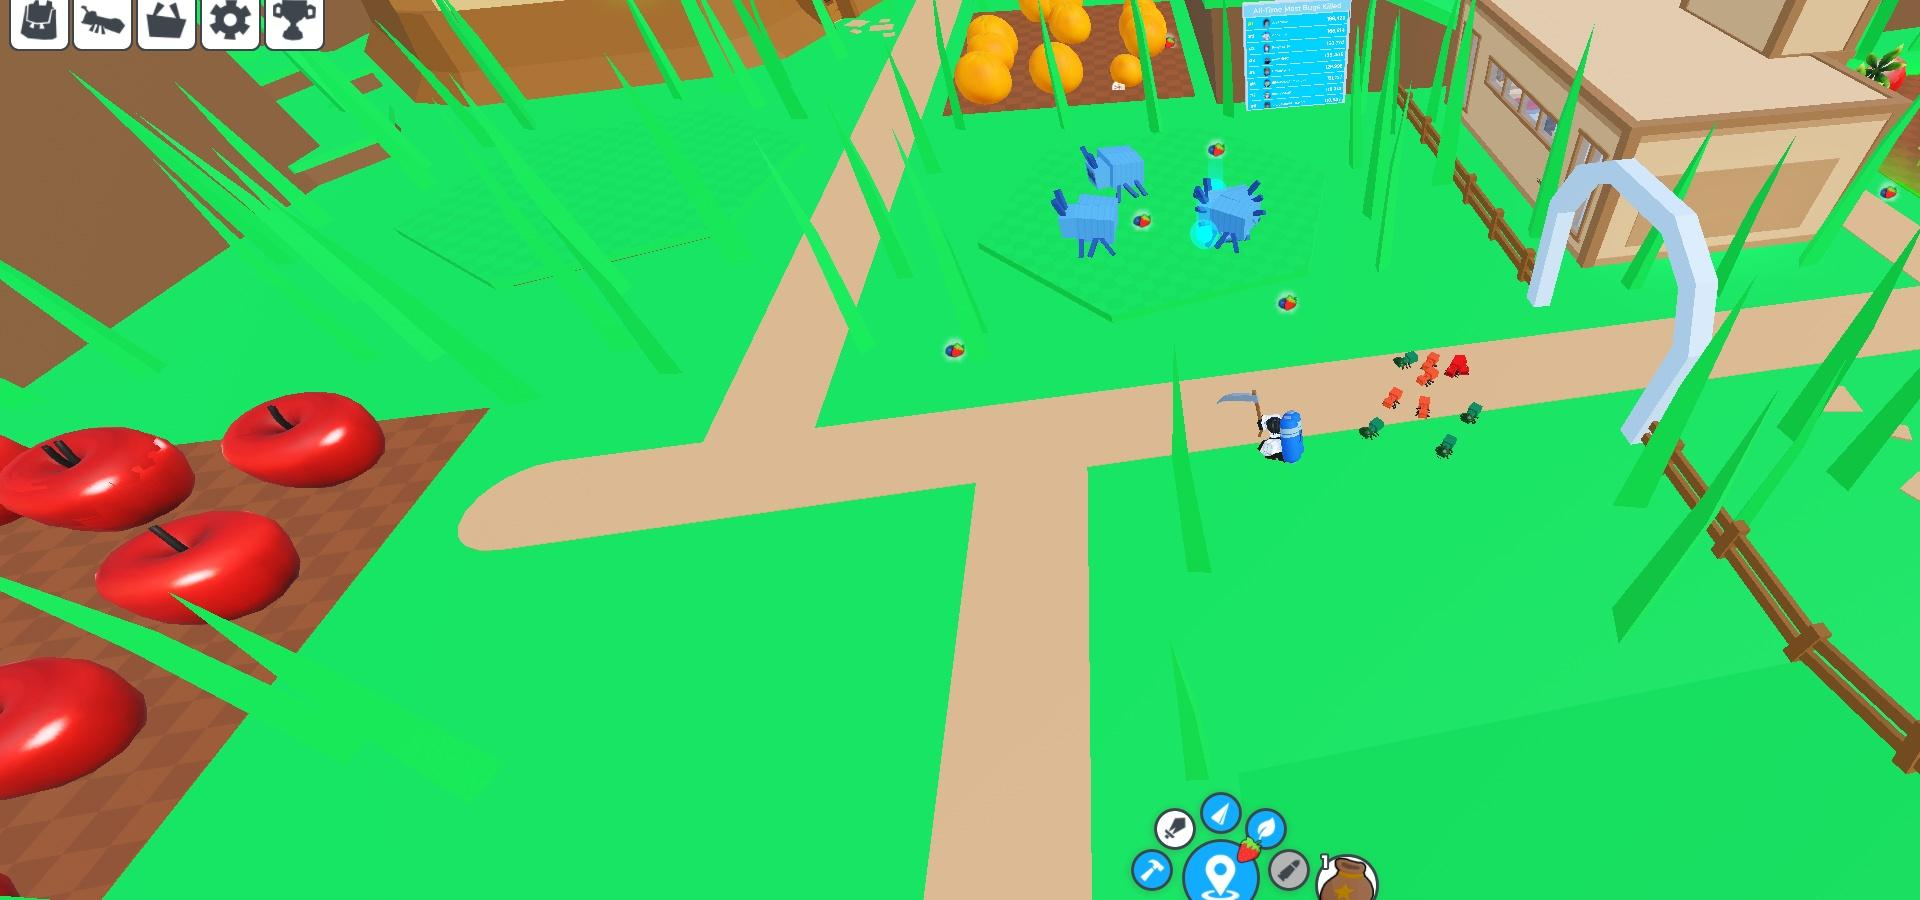Enemy: (1046, 184, 1124, 251), (1193, 176, 1266, 246), (1073, 137, 1155, 192)
